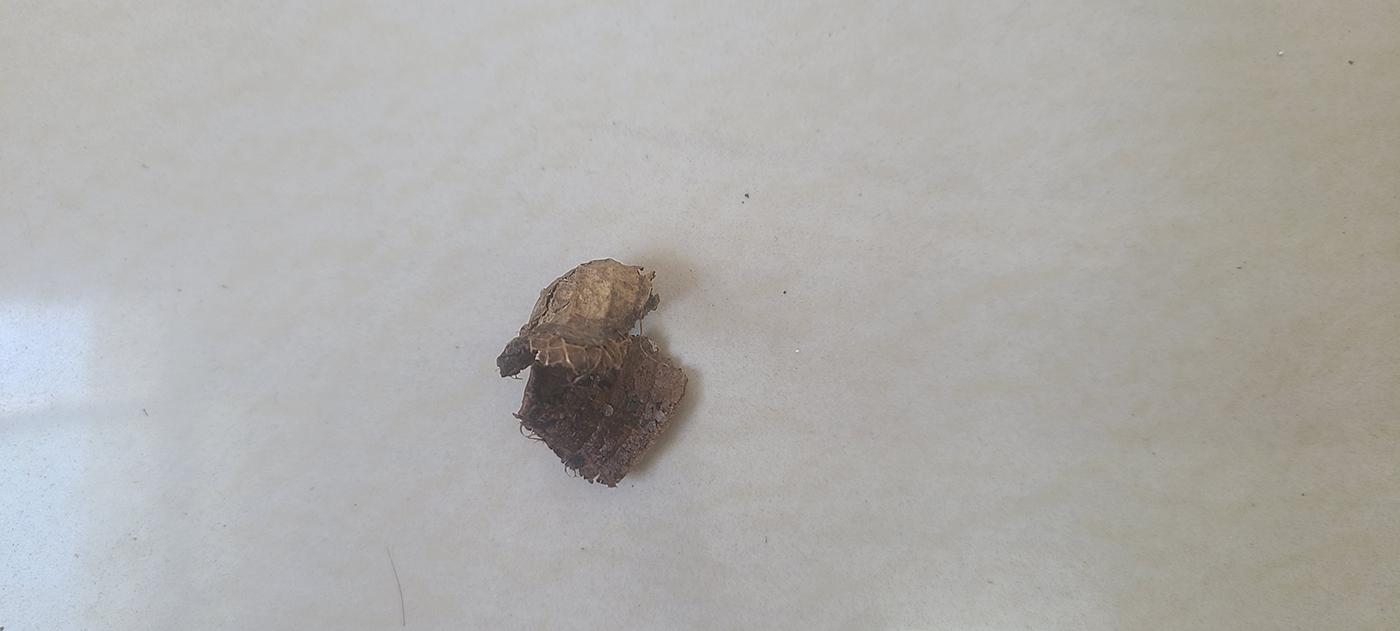l: (497, 262, 689, 489)
